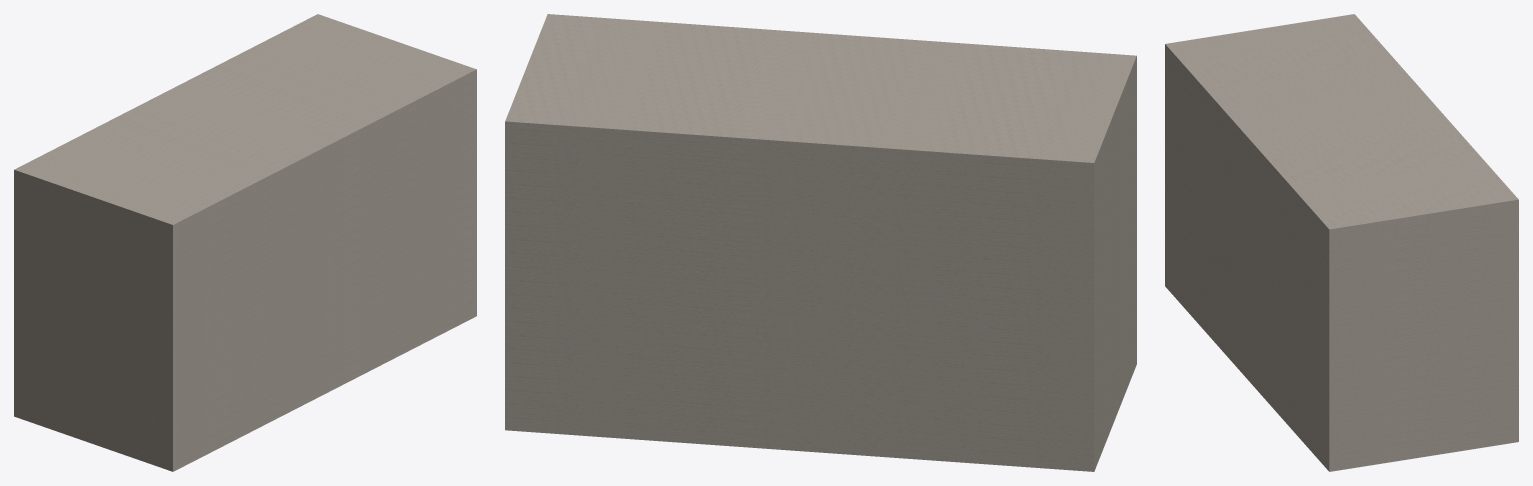
The model's file is sci_hall1.fbx.
The picture shows the model from 3 angles, left to right: view 1: azimuth 30°, elevation 25°; view 2: azimuth 150°, elevation 25°; view 3: azimuth 270°, elevation 25°; orthographic projection. The views are drawn at different scales.
Visible parts, largest first — view 1: SciHall1; view 2: SciHall1; view 3: SciHall1.
Part boxes in pixels (bbox=[...]): SciHall1: bbox=[14, 14, 476, 471]; SciHall1: bbox=[505, 14, 1136, 471]; SciHall1: bbox=[1165, 14, 1518, 471].
Bounding box in the file's own units: 57.2 × 30 × 39.67.
Materials: 1 (1 with a texture image).
